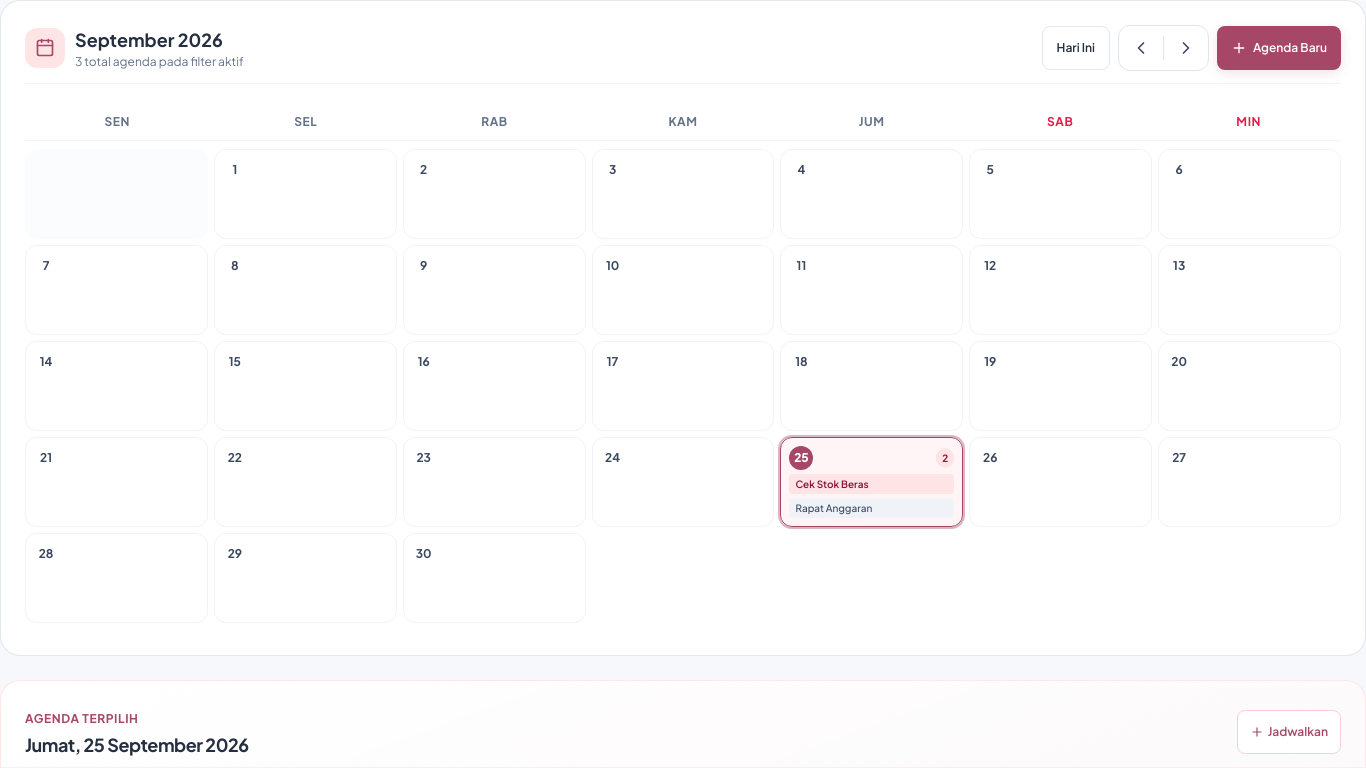
Tahap 4 — Desain Visual, Kalender Modular, & Dialog Konfirmasi › 1. Komponen Kalender Modular (TaskCalendarView) › navigasi bulan berikutnya dan bulan sebelumnya mengubah tampilan bulan
Click the button named "Bulan berikutnya": (1186, 48) [1164, 26, 1208, 70]
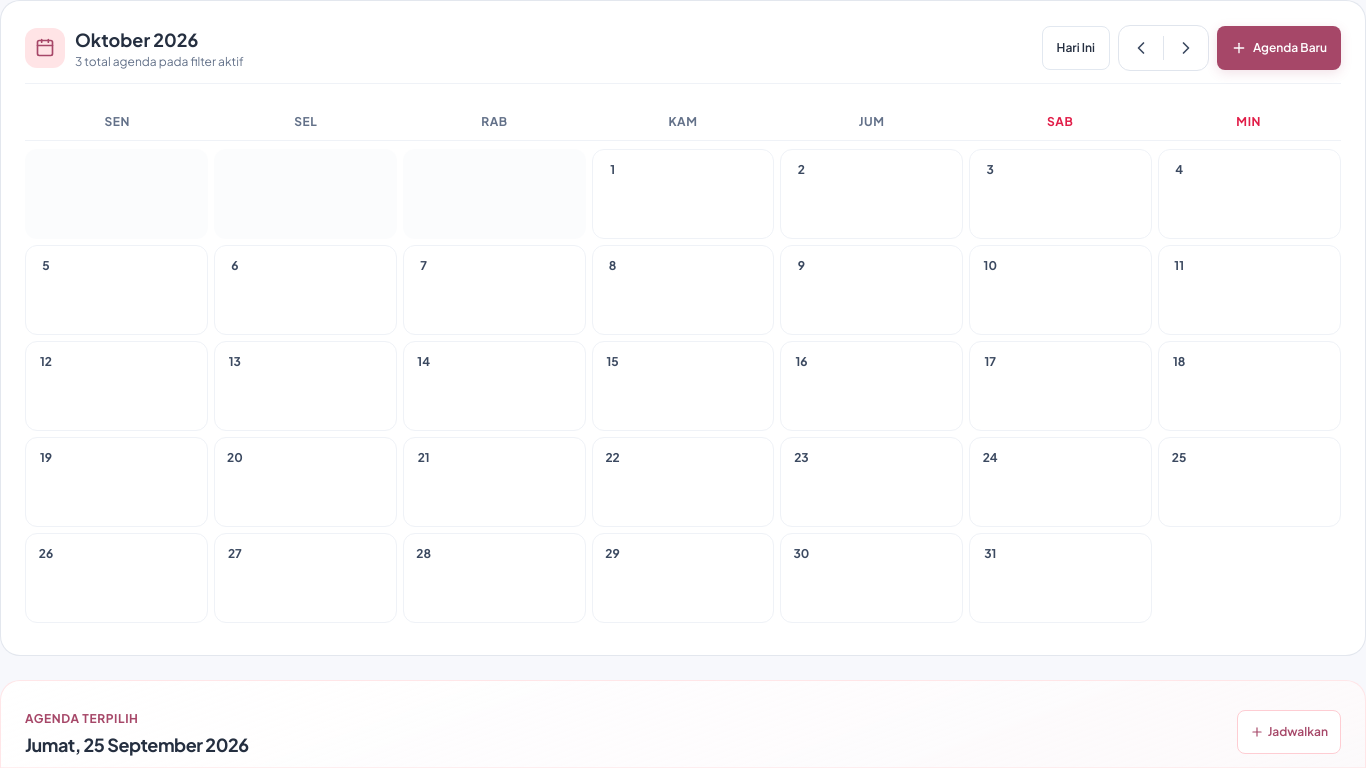
Now the heading "Oktober 2026" is shown, box [75, 28, 198, 51]
Click the button named "Bulan sebelumnya": (1141, 48) [1119, 26, 1163, 70]
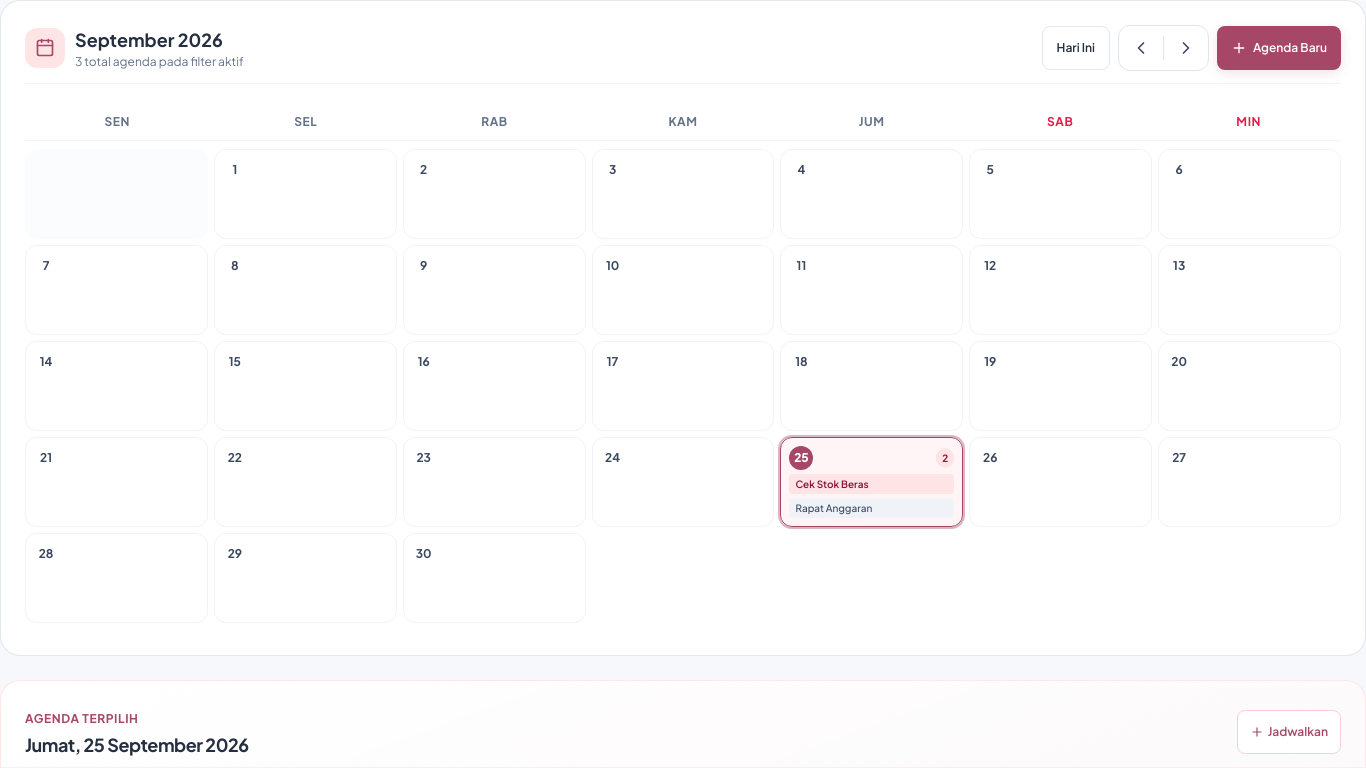
Now the heading "September 2026" is shown, box [75, 26, 244, 54]
